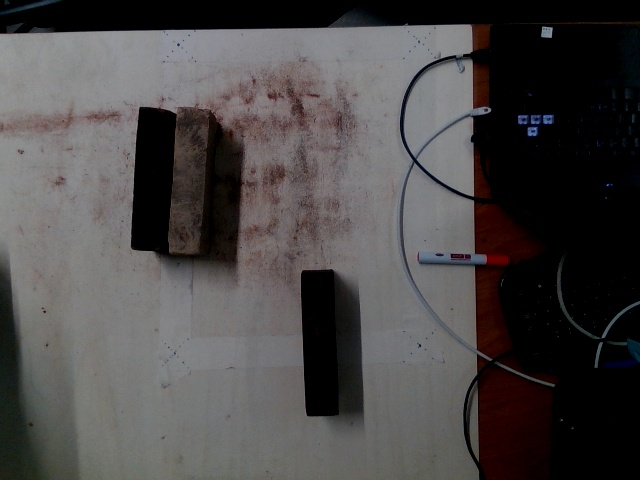brick-side: (128, 110, 168, 253), (168, 108, 207, 251), (302, 270, 335, 415)
